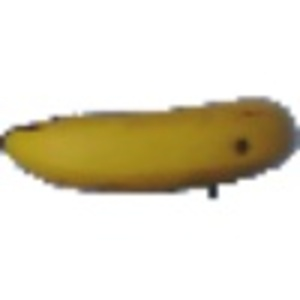banana: (1, 92, 295, 191)
